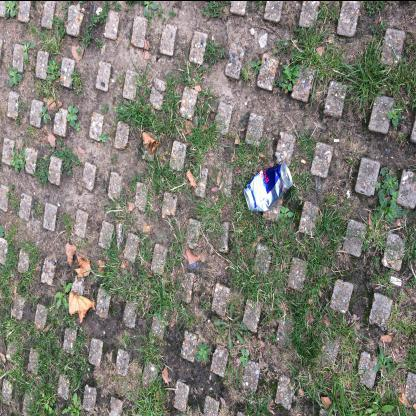metal: (244, 164, 294, 213)
